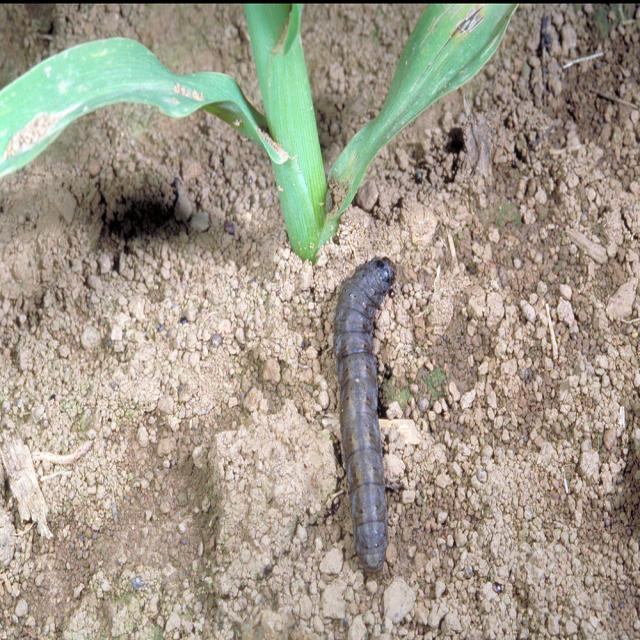Cutworm: (335, 257, 405, 577)
